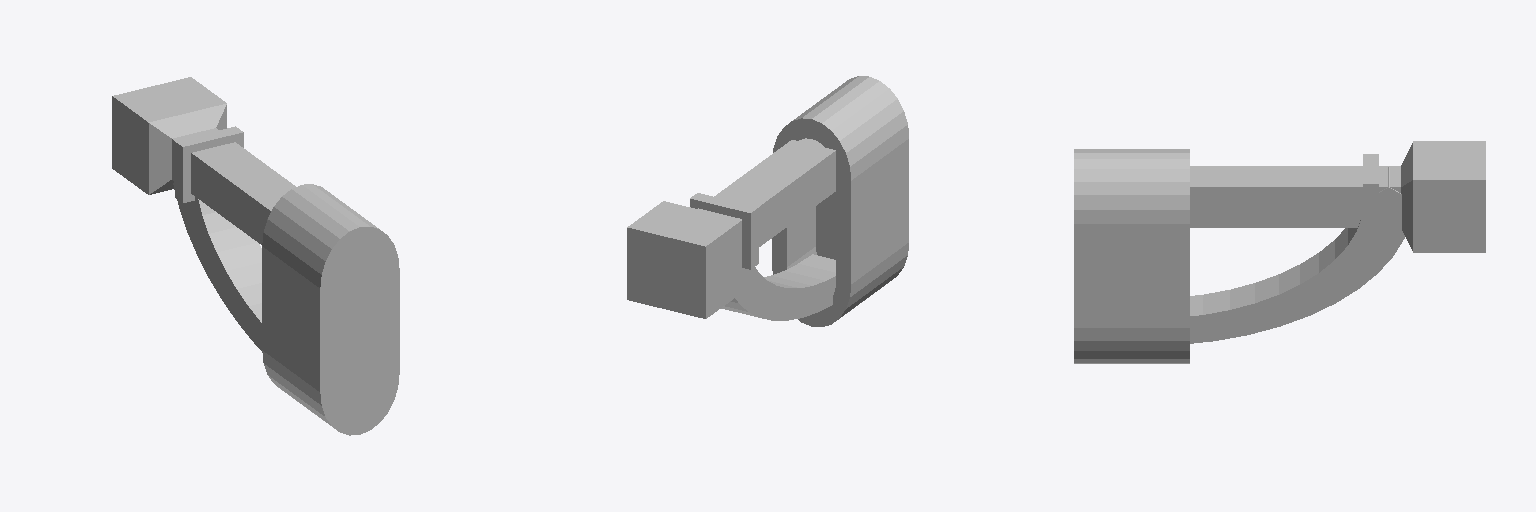
The model's file is stock2.model.obj.
The picture shows the model from 3 angles: view 1: azimuth 30°, elevation 25°; view 2: azimuth 150°, elevation 25°; view 3: azimuth 270°, elevation 25°; orthographic projection.
Size of the model in its own units: 0.1947 by 0.4733 by 0.85.